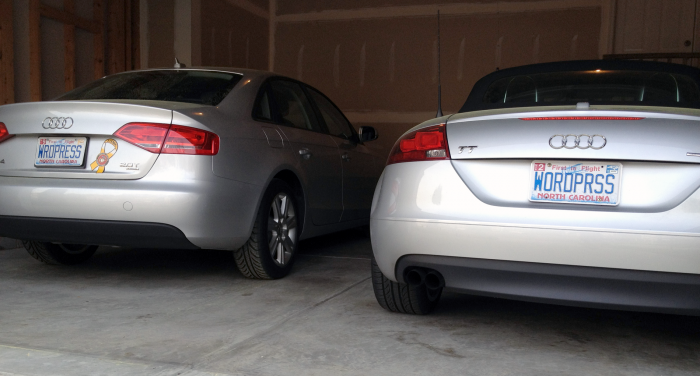number_plates: (532, 163, 619, 200)
